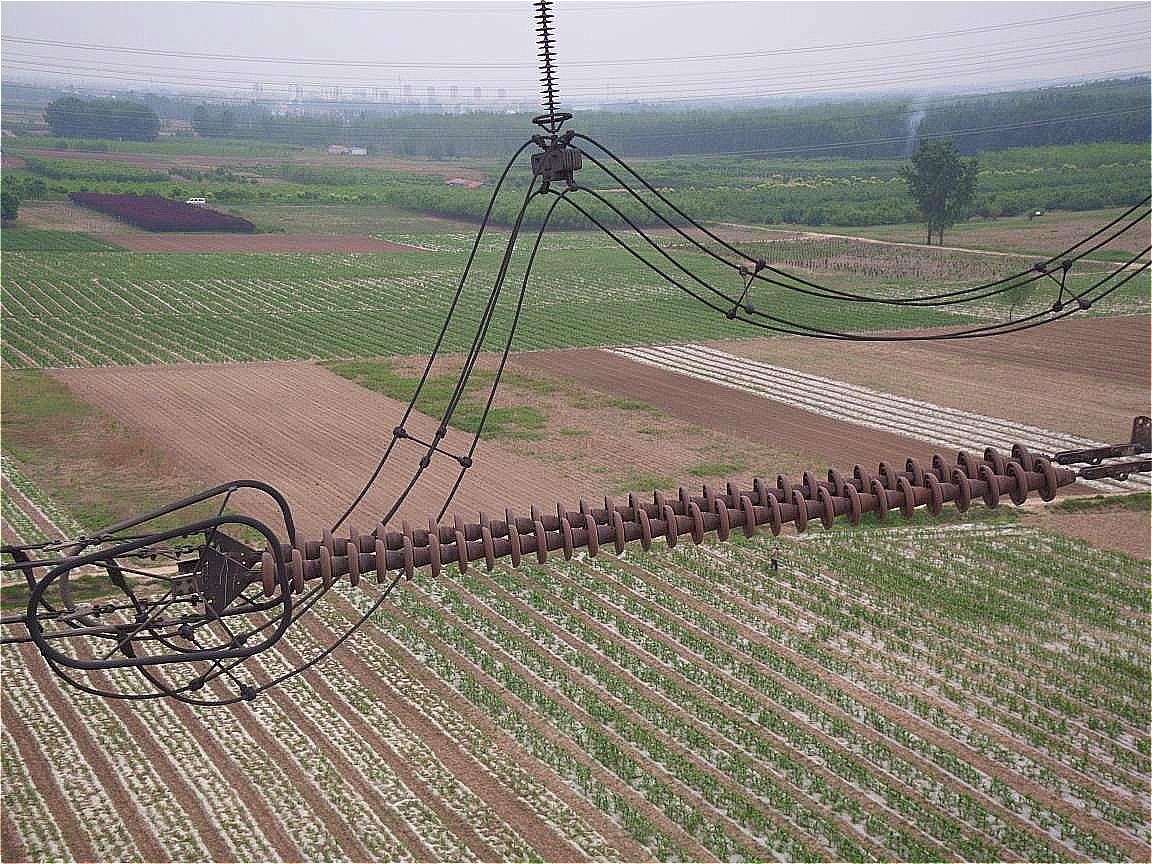insultor1: (258, 446, 1062, 596)
